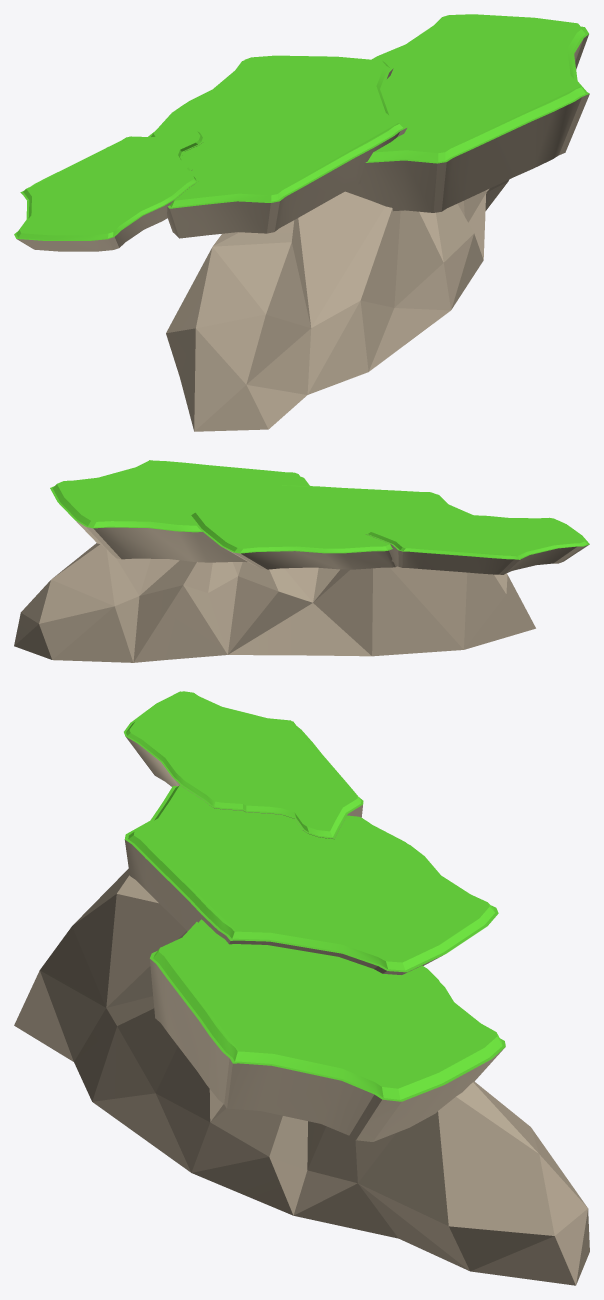
The model's file is land002.gltf.
The picture shows the model from 3 angles, top to bottom: view 1: azimuth 30°, elevation 25°; view 2: azimuth 150°, elevation 25°; view 3: azimuth 270°, elevation 25°; orthographic projection. The views are drawn at different scales.
Visible parts, largest first — view 1: node_land003_3_-54852, node_land003_2_-54850, node_land003_-54846, node_land003_1_-54848; view 2: node_land003_3_-54852, node_land003_-54846, node_land003_2_-54850, node_land003_1_-54848; view 3: node_land003_3_-54852, node_land003_2_-54850, node_land003_-54846, node_land003_1_-54848.
Boxes of the visible parts, bbox=[...] form: node_land003_3_-54852: bbox=[166, 179, 509, 431]; node_land003_2_-54850: bbox=[345, 14, 589, 212]; node_land003_-54846: bbox=[148, 55, 407, 238]; node_land003_1_-54848: bbox=[14, 131, 204, 251]; node_land003_3_-54852: bbox=[14, 543, 535, 662]; node_land003_-54846: bbox=[188, 485, 473, 569]; node_land003_2_-54850: bbox=[50, 460, 309, 562]; node_land003_1_-54848: bbox=[365, 515, 589, 574]; node_land003_3_-54852: bbox=[14, 869, 589, 1285]; node_land003_2_-54850: bbox=[149, 919, 505, 1141]; node_land003_-54846: bbox=[124, 785, 498, 974]; node_land003_1_-54848: bbox=[124, 691, 363, 839].
Size of the model in its own units: 26.08 by 7.14 by 16.24.
